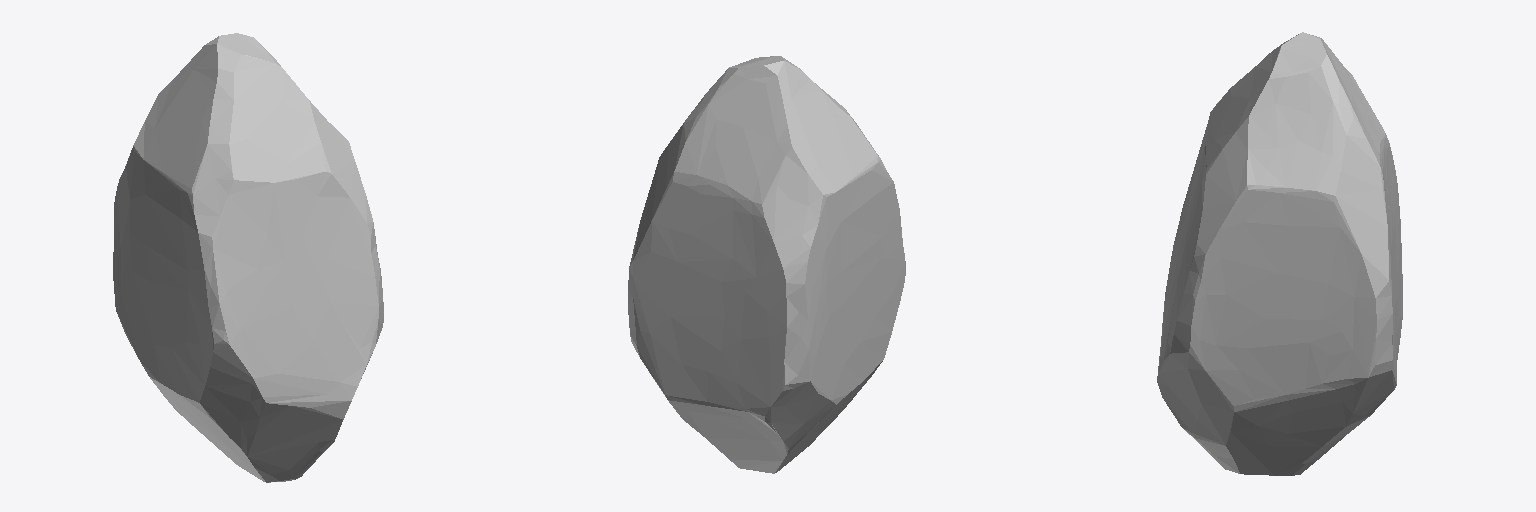
Rendered from gem.obj.
3 views of the same model, side by side, from view 1: azimuth 30°, elevation 25°; view 2: azimuth 150°, elevation 25°; view 3: azimuth 270°, elevation 25° (orthographic).
Visible parts, largest first — view 1: defaultMaterial.003; view 2: defaultMaterial.003; view 3: defaultMaterial.003.
Boxes of the visible parts, <box> form: defaultMaterial.003: <box>113,33,383,482</box>; defaultMaterial.003: <box>628,56,905,473</box>; defaultMaterial.003: <box>1157,32,1402,475</box>.
Size of the model in its own units: 0.9169 by 2 by 1.06.